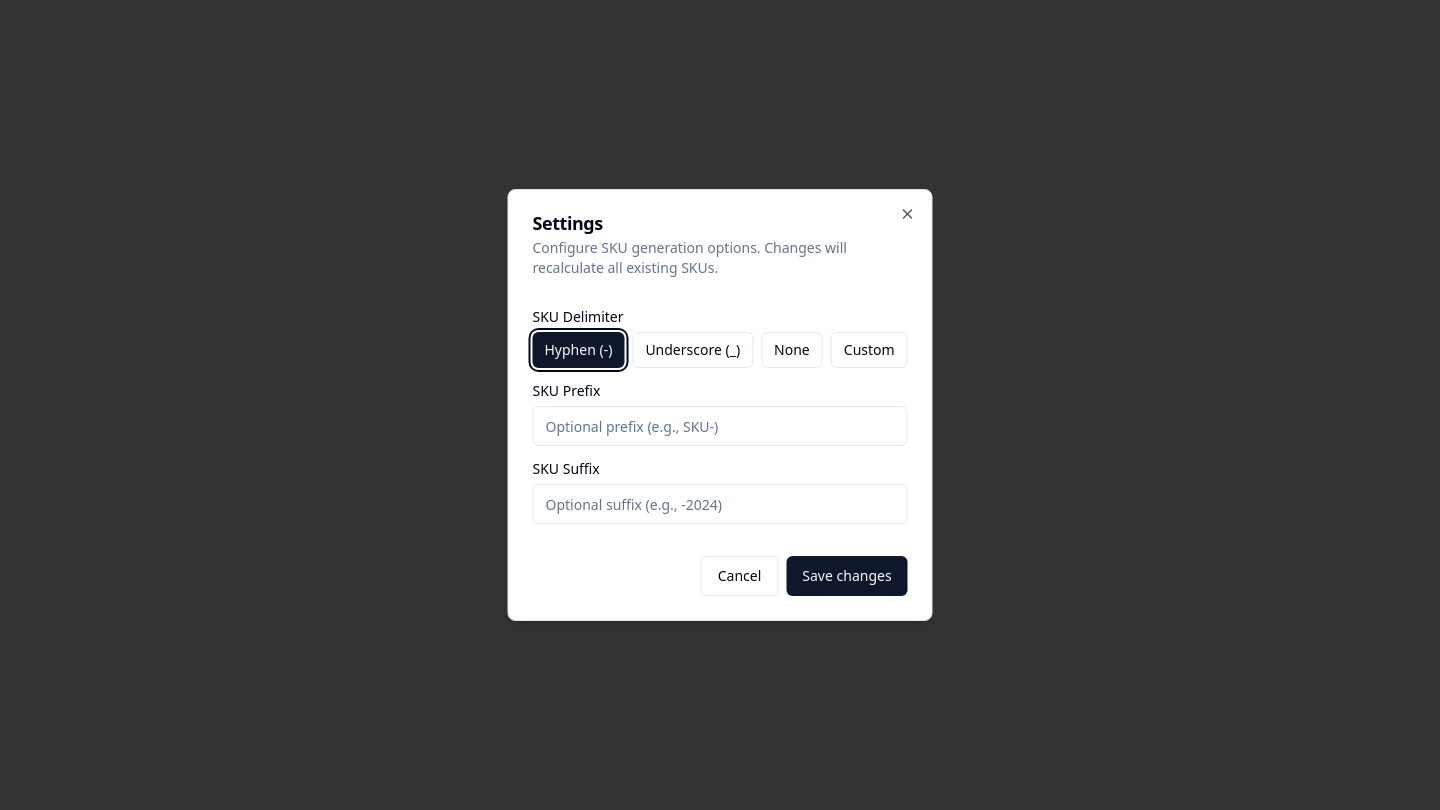
Test case: SettingsDialog › shows custom delimiter input when Custom is selected
Click the button "Custom" at (869, 350), box [831,332,908,368]
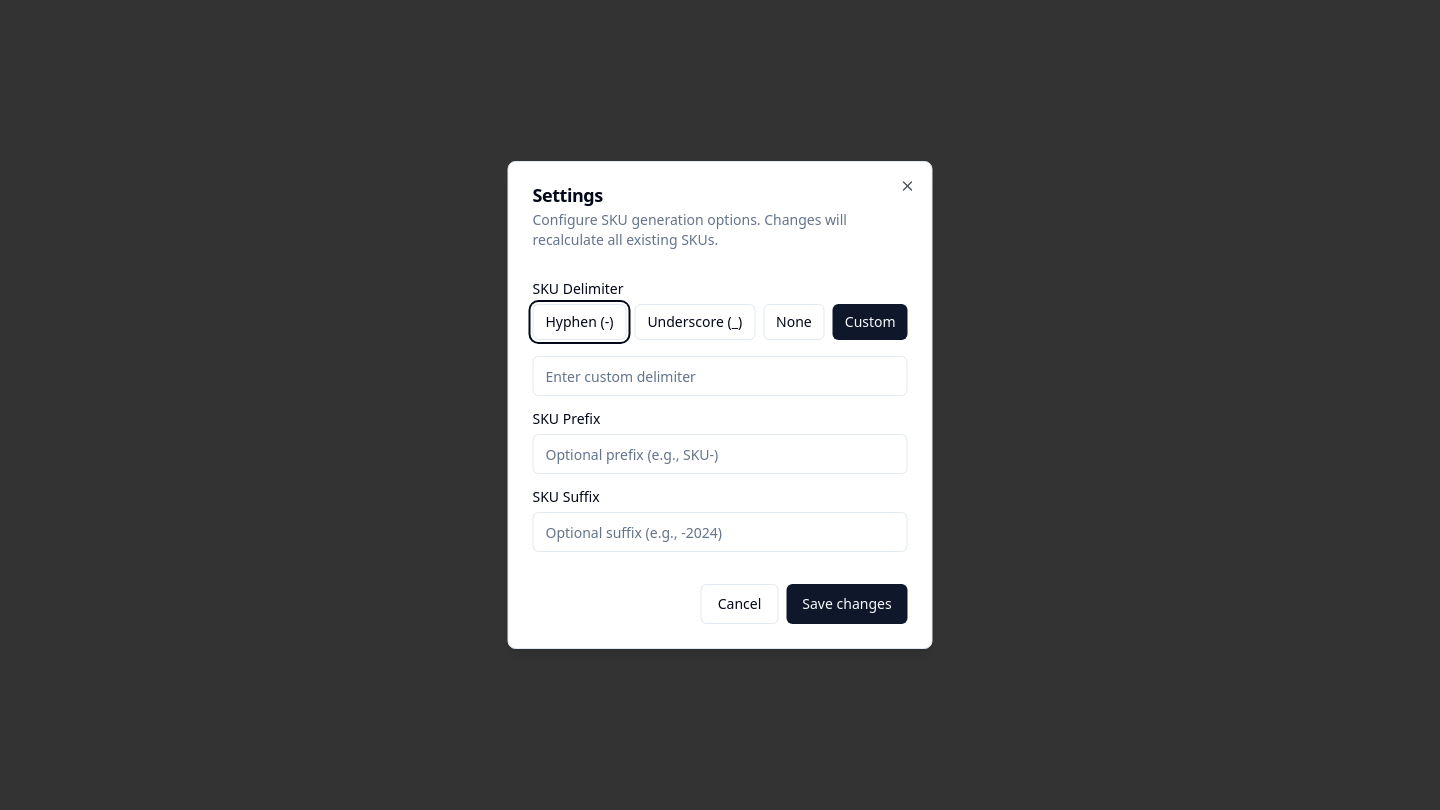
Now the field with placeholder "Enter custom delimiter" is shown, box [532,356,908,396]
